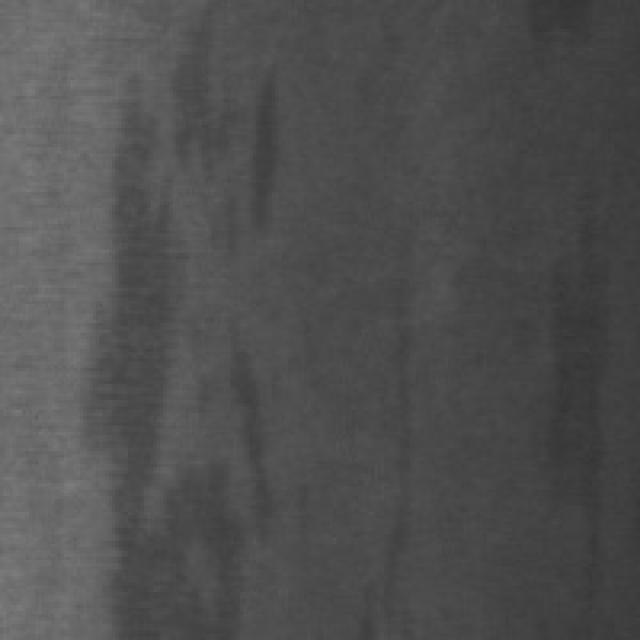inclusion: (70, 29, 276, 634), (522, 211, 618, 605), (346, 310, 419, 630), (237, 48, 294, 237)
